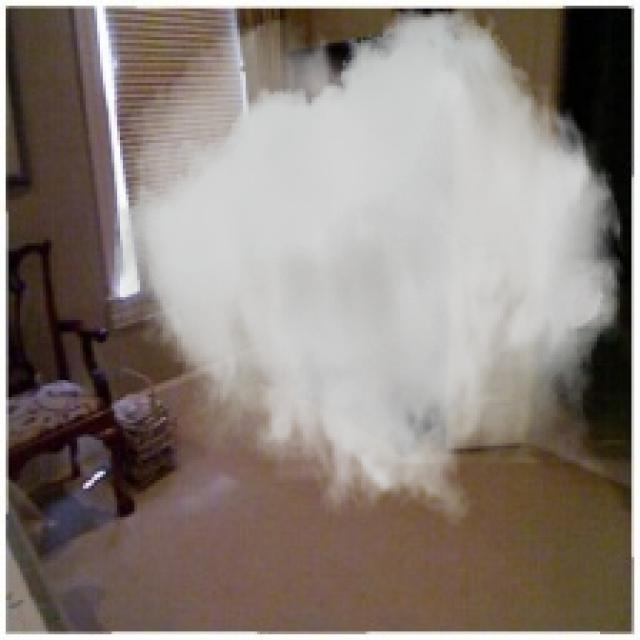smoke: (114, 9, 629, 528)
